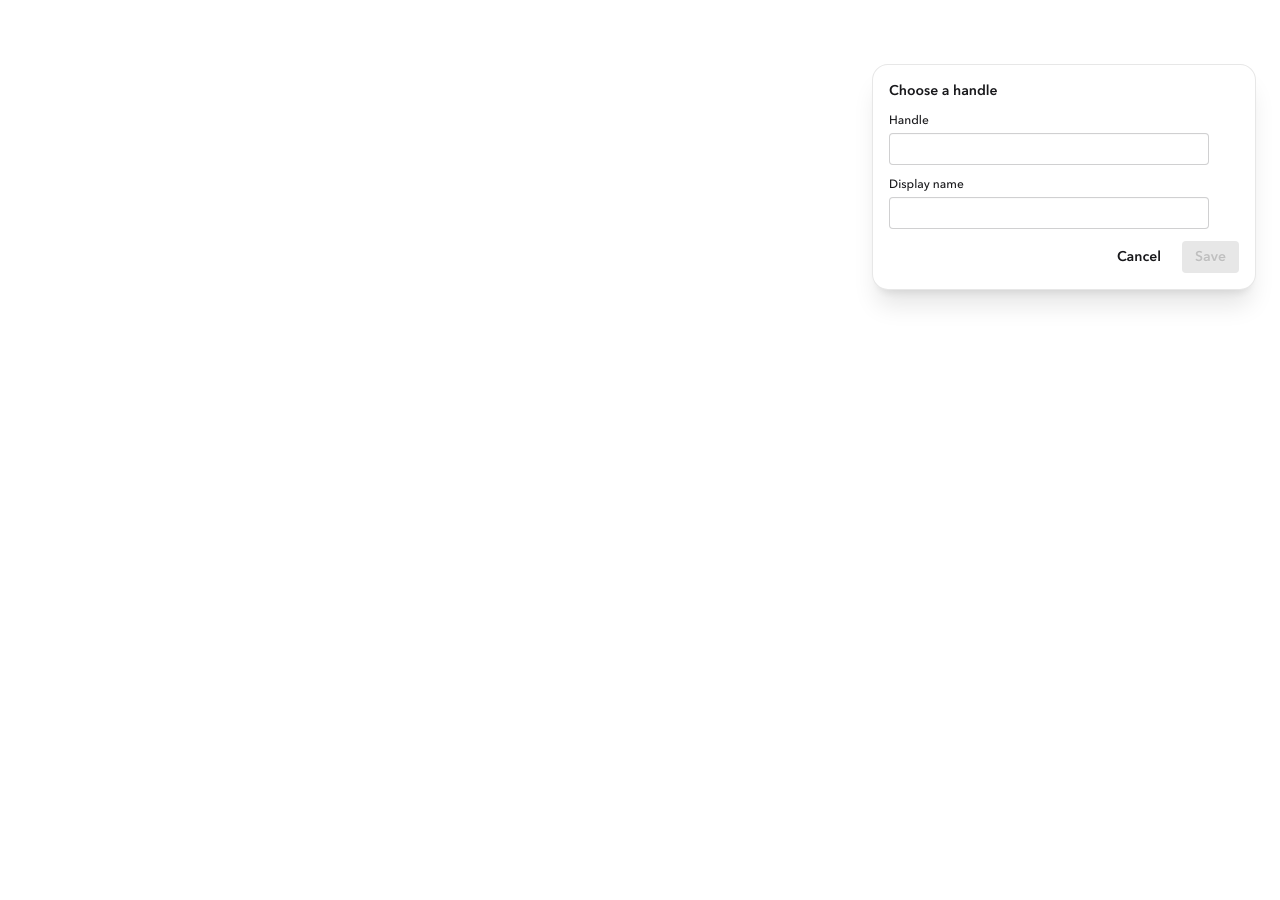
HandleSheet › maps handle_taken to its copy
Type "reader_1" into the field labelled "Handle".
click(1049, 149); type("reader_1")  # box [889,133,1209,165]
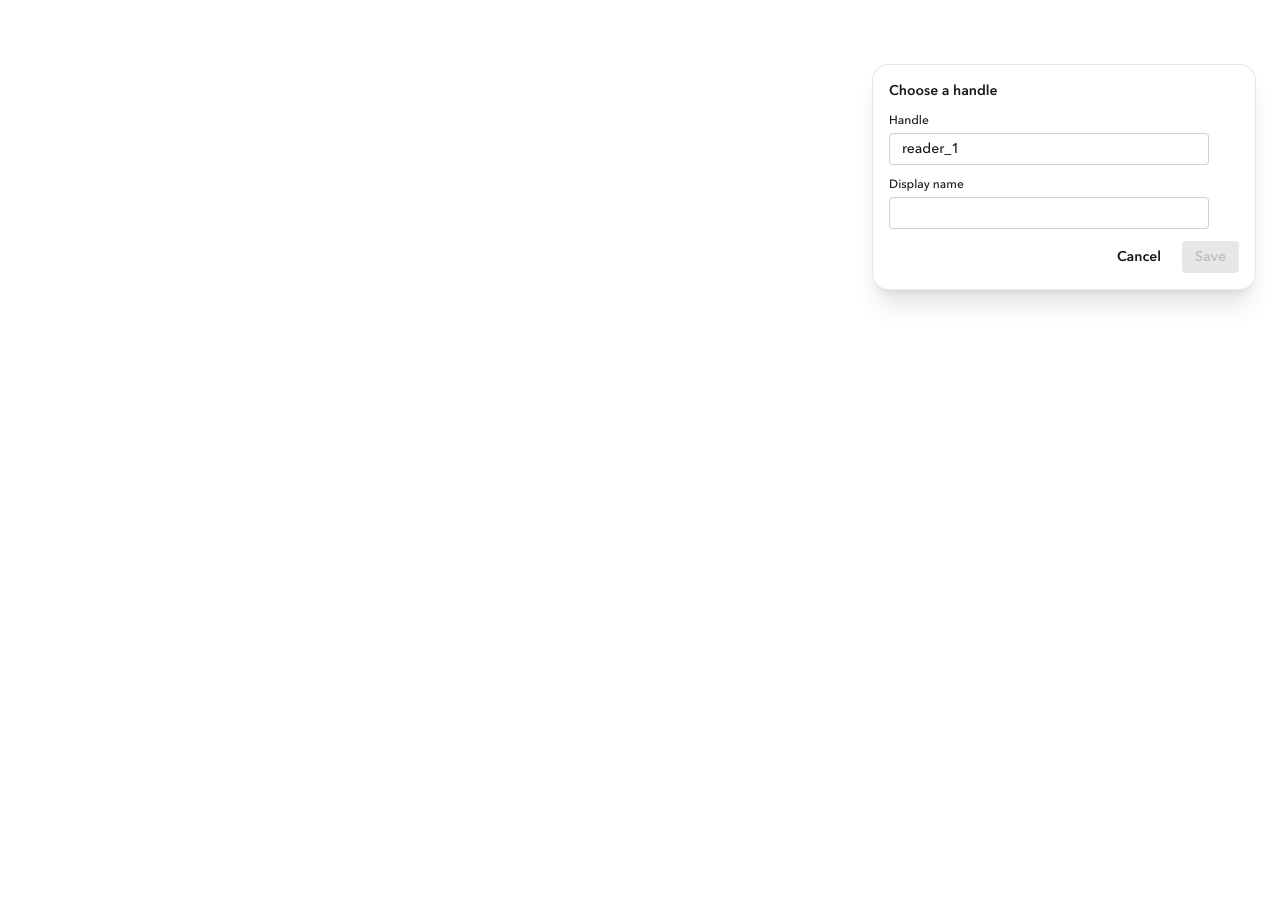
Type "Reader" into the field labelled "Display name".
click(1049, 213); type("Reader")  # box [889,197,1209,229]
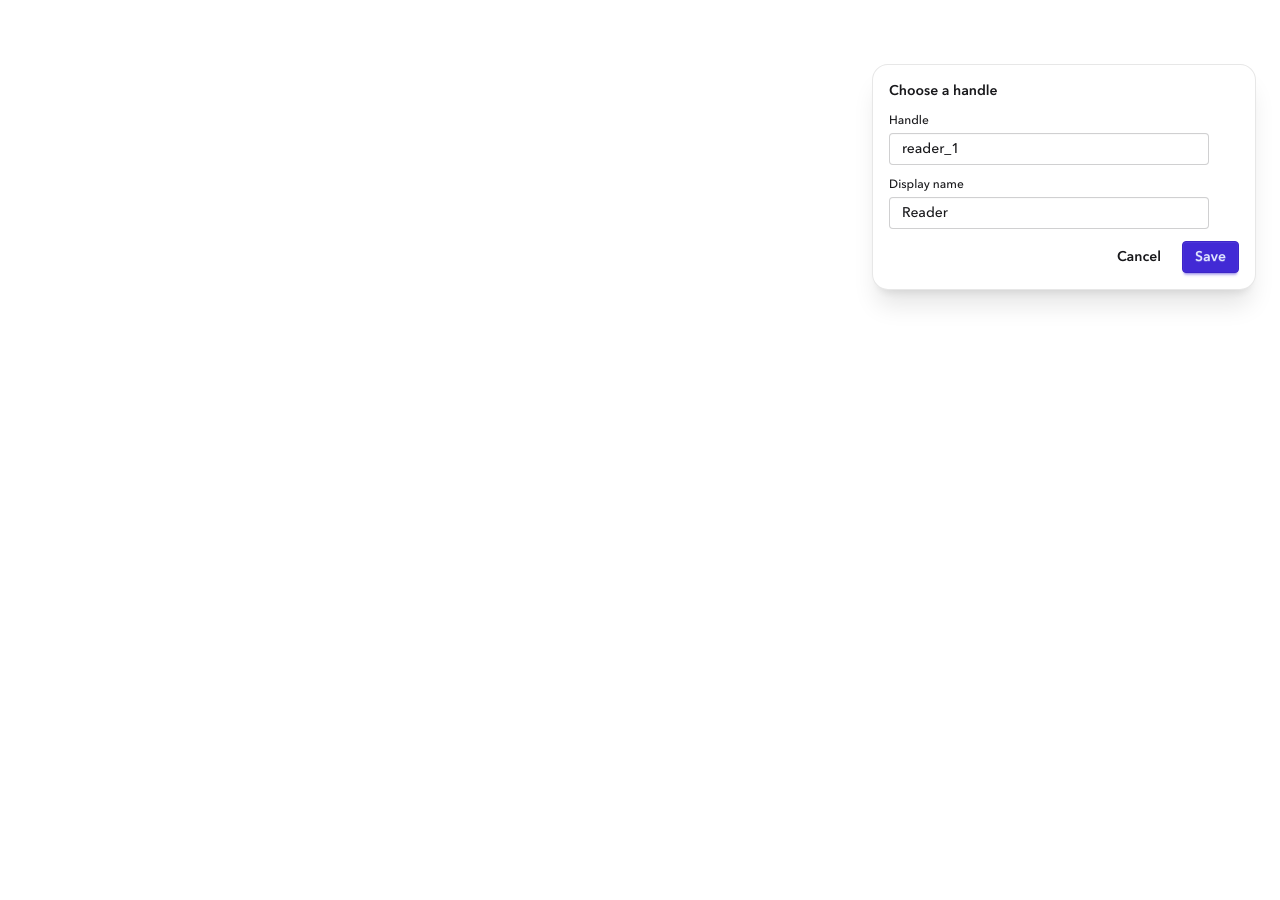
Click the button "Save".
click(1210, 257)  # box [1182,241,1239,273]
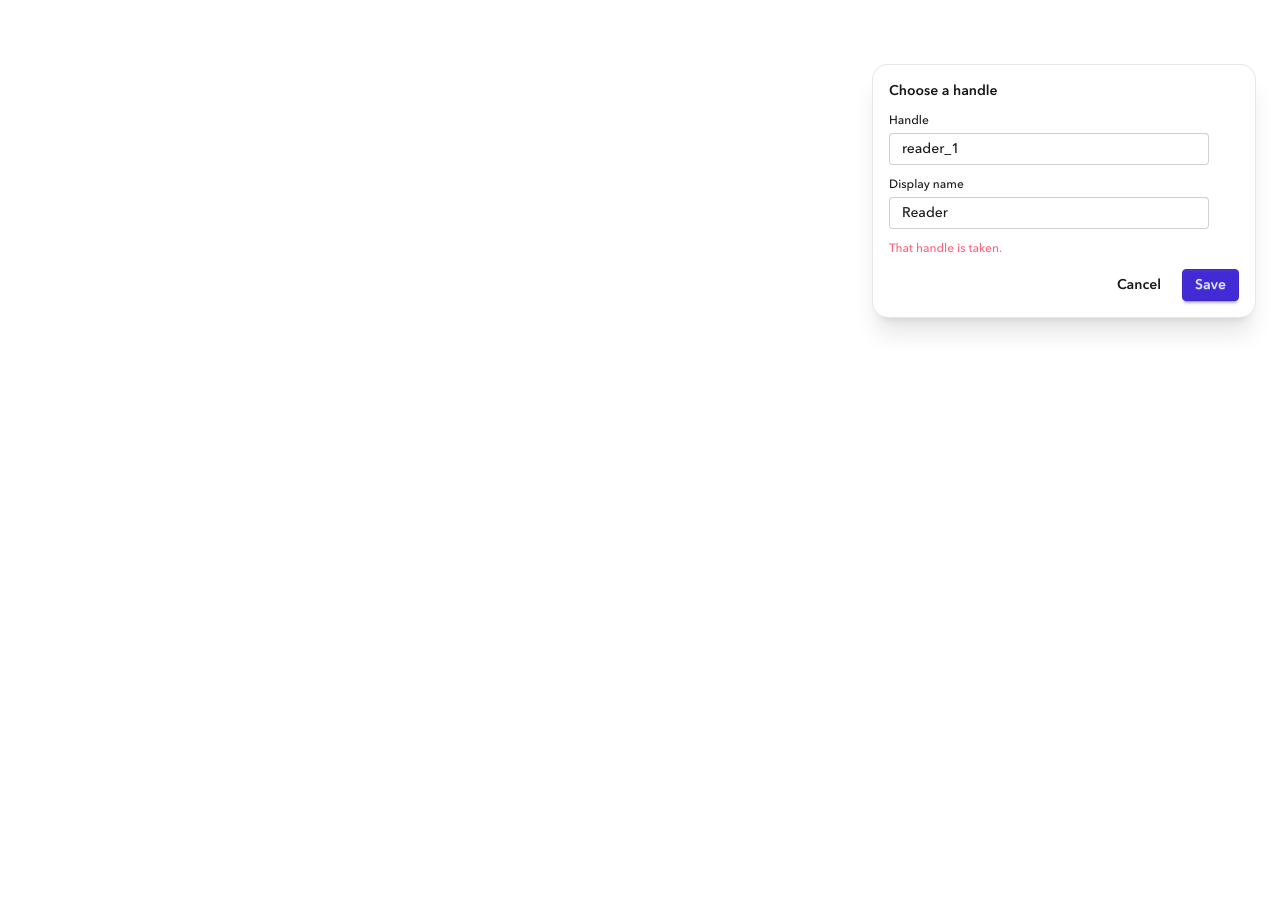
Expected: the text "That handle is taken." is shown, [889,243,1002,255]
